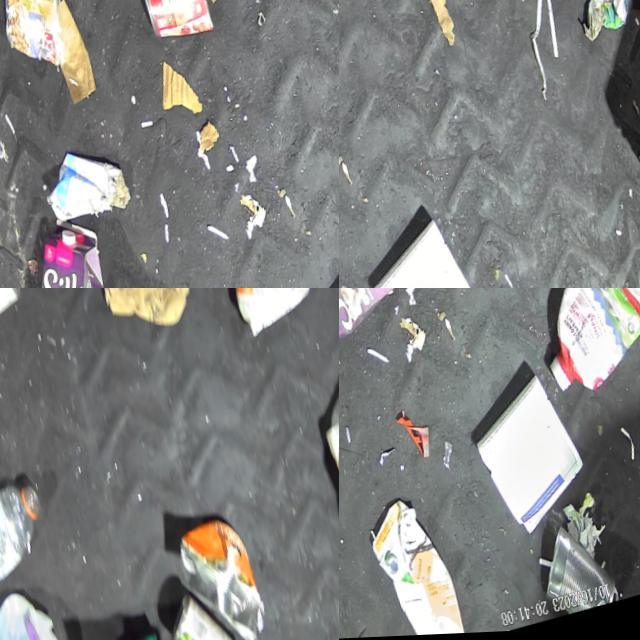can: (164, 511, 273, 640), (529, 519, 618, 623), (0, 0, 78, 79), (157, 581, 252, 640), (131, 0, 215, 51)
milk_jug: (0, 582, 87, 640)
non_white_jug: (360, 489, 465, 639), (520, 288, 640, 405), (0, 206, 142, 288)
plastic_bottle: (0, 475, 55, 588)
